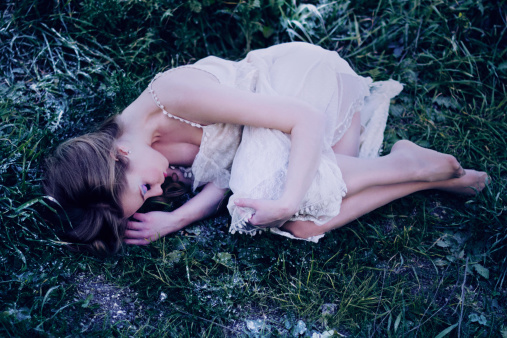deitado: (35, 45, 478, 249)
